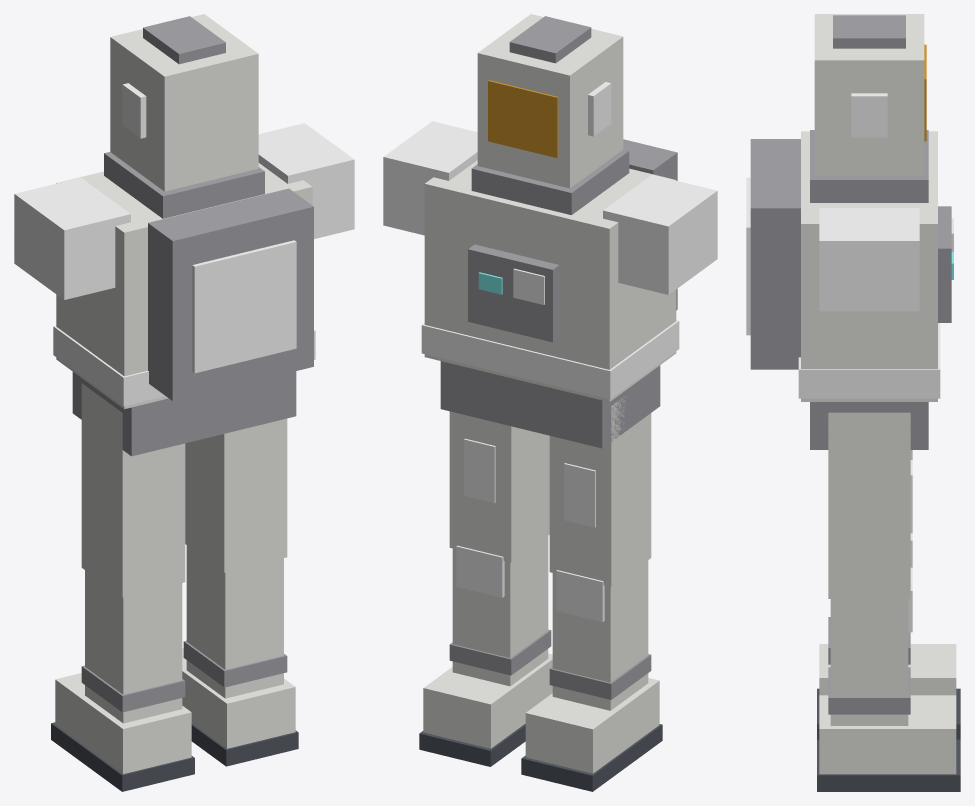
The model's file is ASTRONAUT.gltf.
3 views of the same model, side by side, from view 1: azimuth 30°, elevation 25°; view 2: azimuth 150°, elevation 25°; view 3: azimuth 270°, elevation 25° (orthographic). The views are drawn at different scales.
Parts seen in each view (by area): view 1: ASTRONAUT; view 2: ASTRONAUT; view 3: ASTRONAUT.
Part boxes in pixels (x1,y1,x2,y2): ASTRONAUT: (14, 14, 354, 791); ASTRONAUT: (383, 14, 717, 791); ASTRONAUT: (746, 14, 960, 791).
Size of the model in its own units: 0.74 by 1.75 by 0.47.
